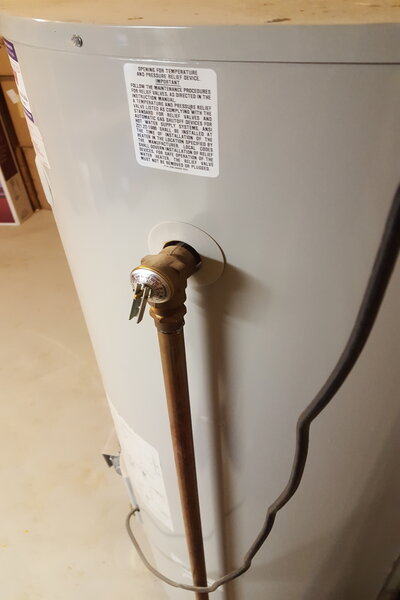valve: (126, 239, 204, 334)
